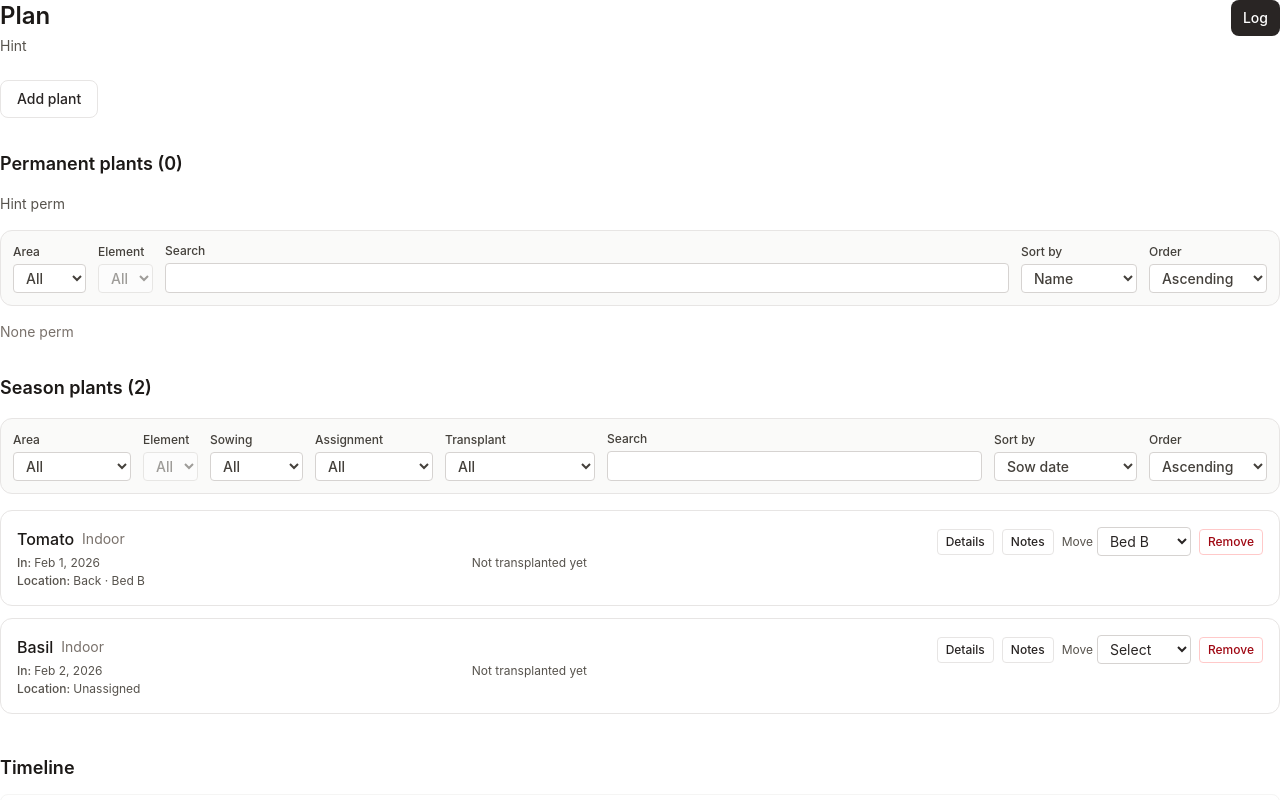
Test: PlantingPlanPage › shows assigned area and element in the indoor detail modal when assigned, and hides it when unassigned
Step 1. Click the button with test id "season-plant-name-pl-assigned" → (46, 539), box [17, 527, 74, 551]
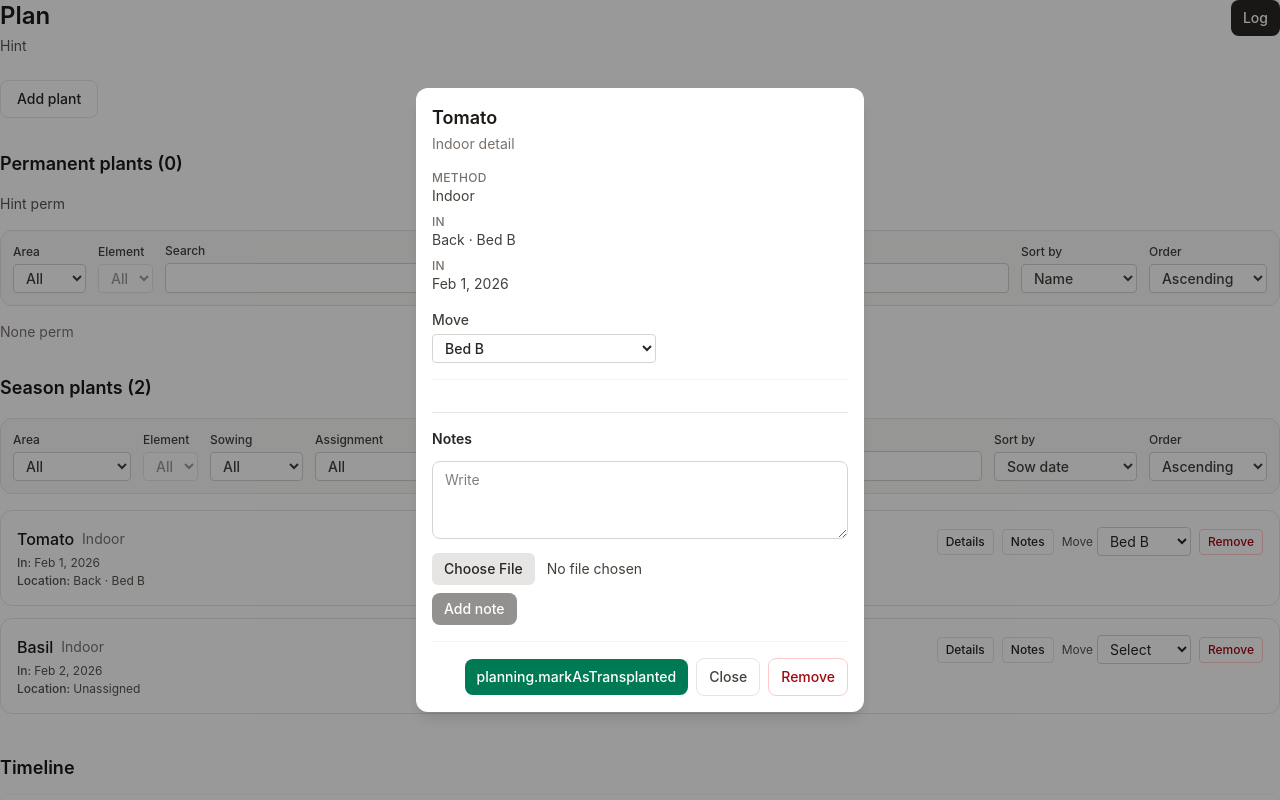
Now the dialog with test id "indoor-planting-detail-modal" is shown
Now the text with test id "indoor-detail-location-pl-assigned" reads "Back · Bed B", box [432, 231, 516, 248]
